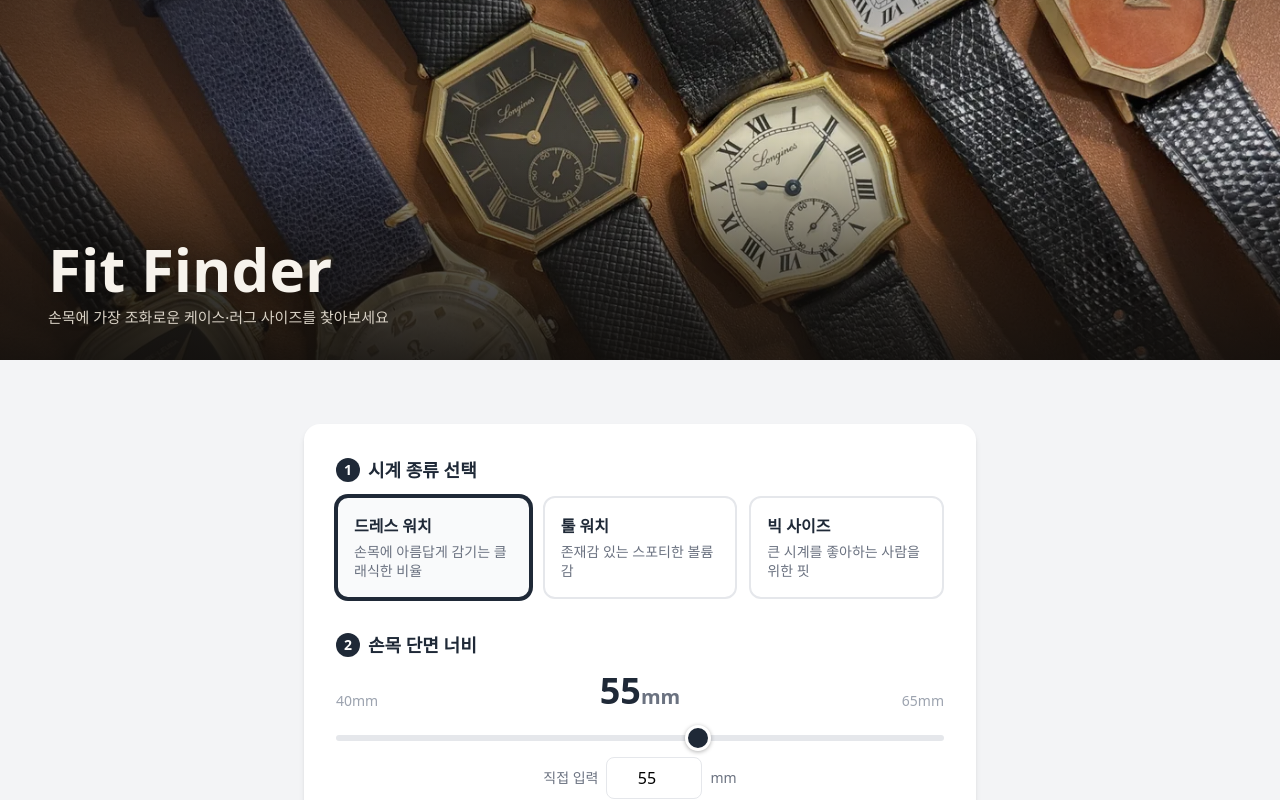
Test: FitFinder — 손목 너비 입력 › 범위 밖인 채로 칸을 벗어나면 그때 안쪽으로 붙인다
This screenshot has width=1280, height=800.
Replace the text in the number field with "5" at (654, 778), box [606, 756, 702, 798]
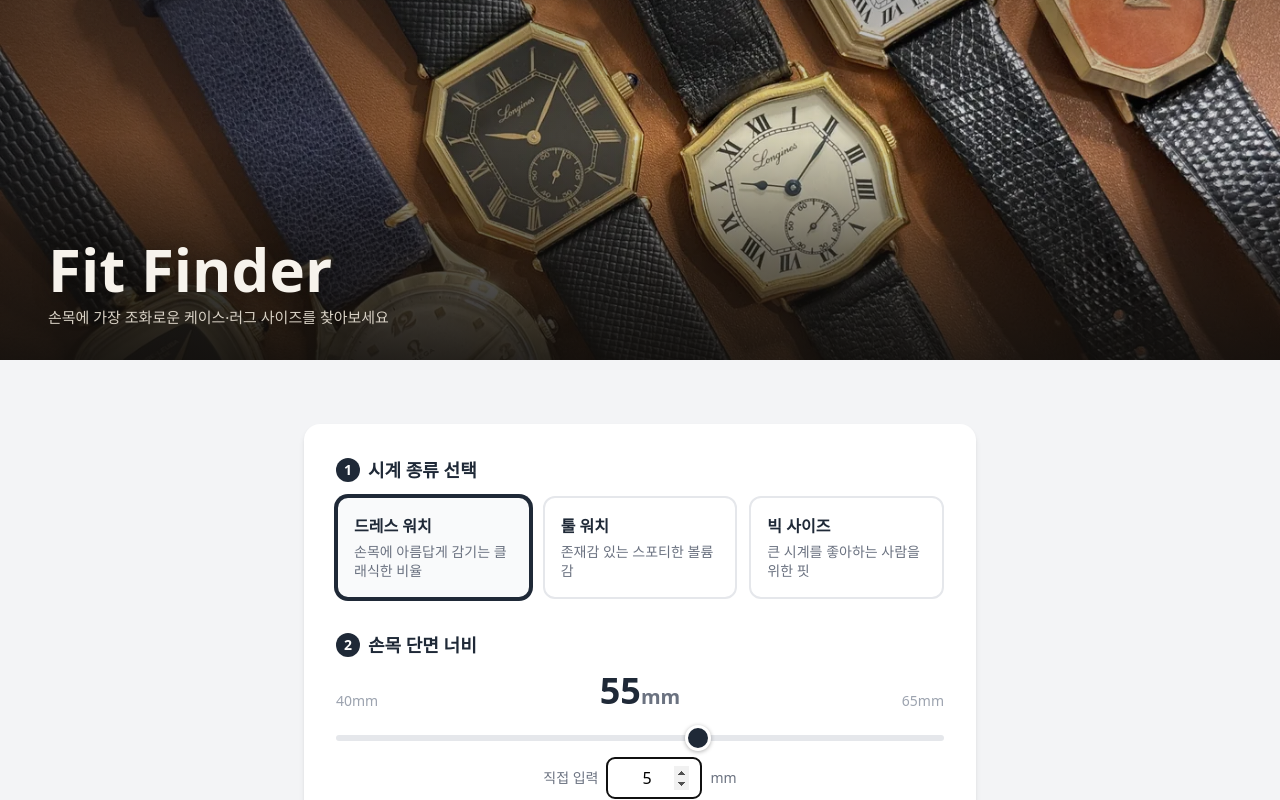
Press Tab
(page scrolled)
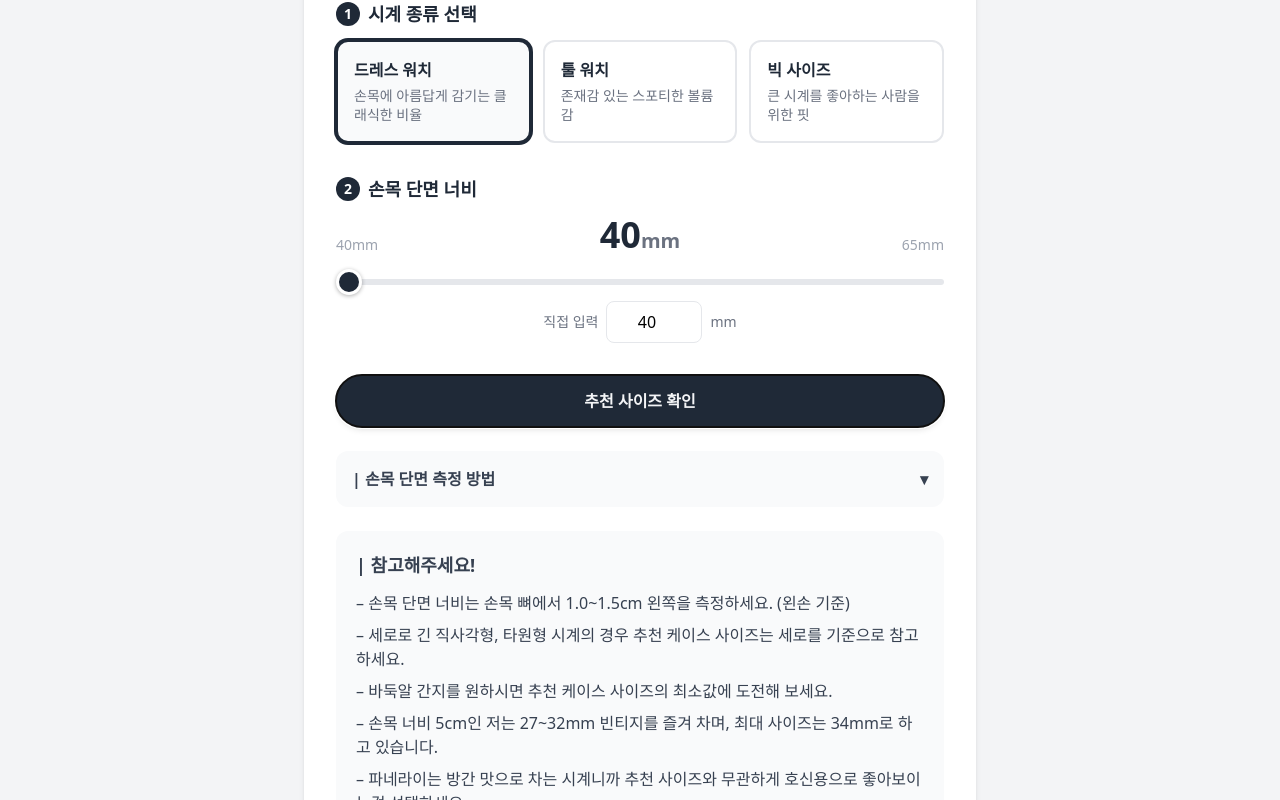
Expected: the number field holds "40", [606, 300, 702, 342]
